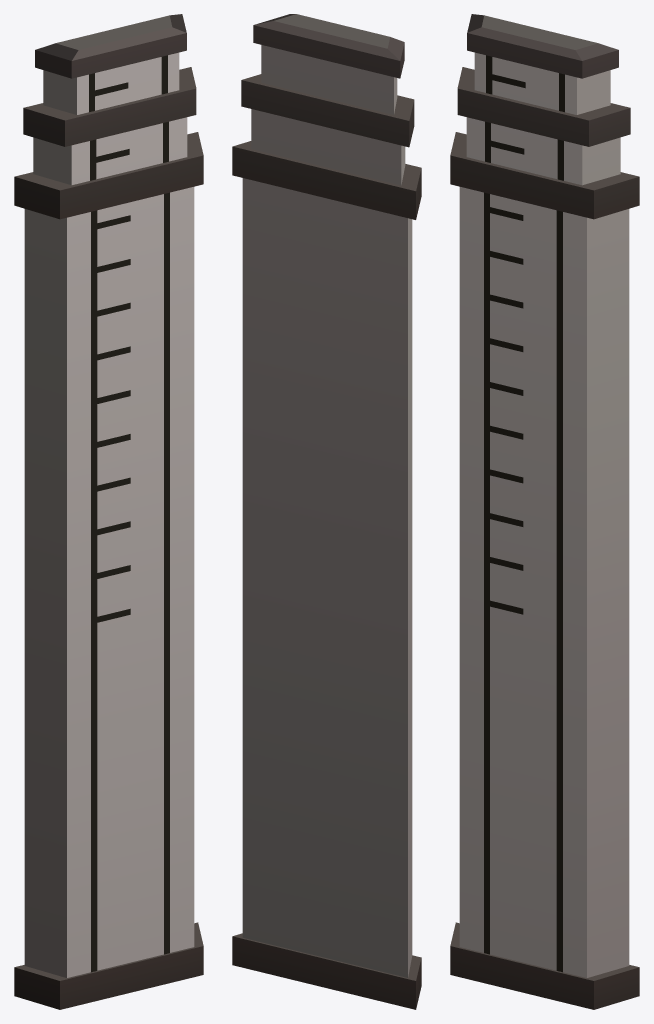
File: tower_ruler.glb
3 renders of one model, left to right at view 1: azimuth 30°, elevation 25°; view 2: azimuth 150°, elevation 25°; view 3: azimuth 330°, elevation 25°, orthographic.
Parts seen in each view (by area): view 1: tower_ruler3; view 2: tower_ruler3; view 3: tower_ruler3.
Part boxes in pixels (x1,y1,x2,y2): tower_ruler3: (14, 14, 203, 1009); tower_ruler3: (232, 14, 421, 1009); tower_ruler3: (450, 14, 639, 1009).
Size of the model in its own units: 0.0608 by 0.3 by 0.0147.
1 material, 1 textured.
